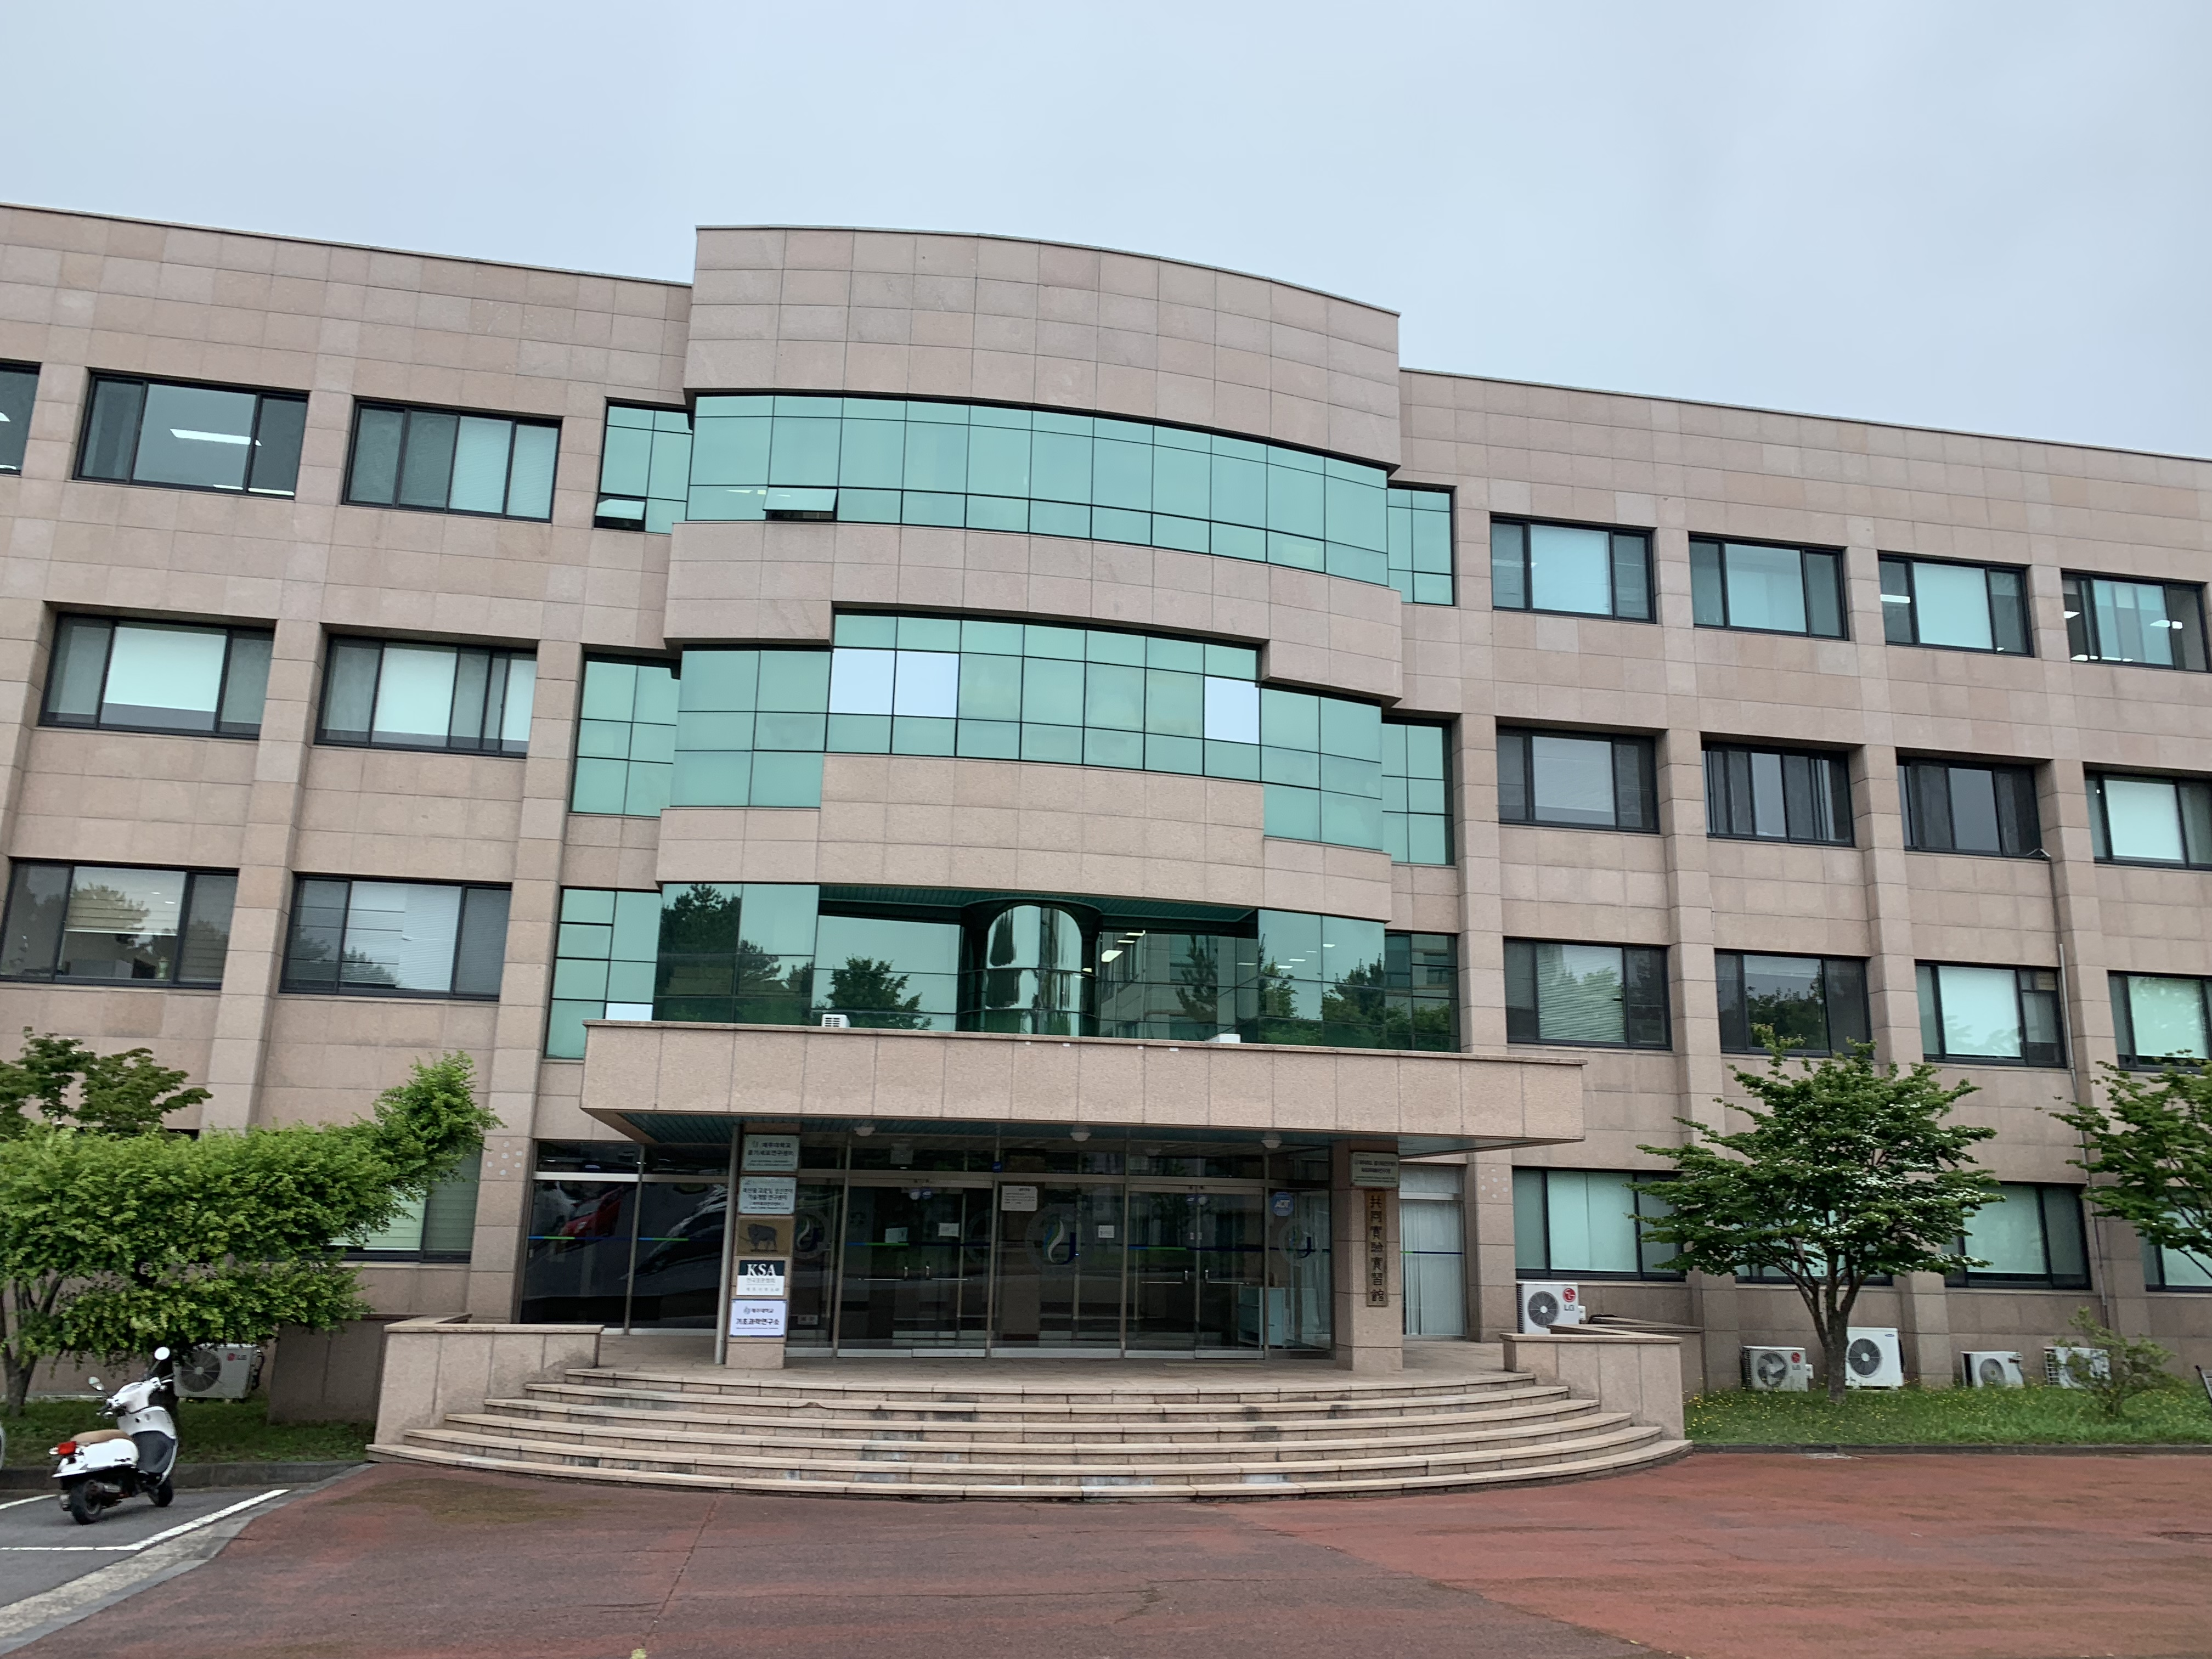Joint Experimental Labs: (233, 218, 2146, 1396)
